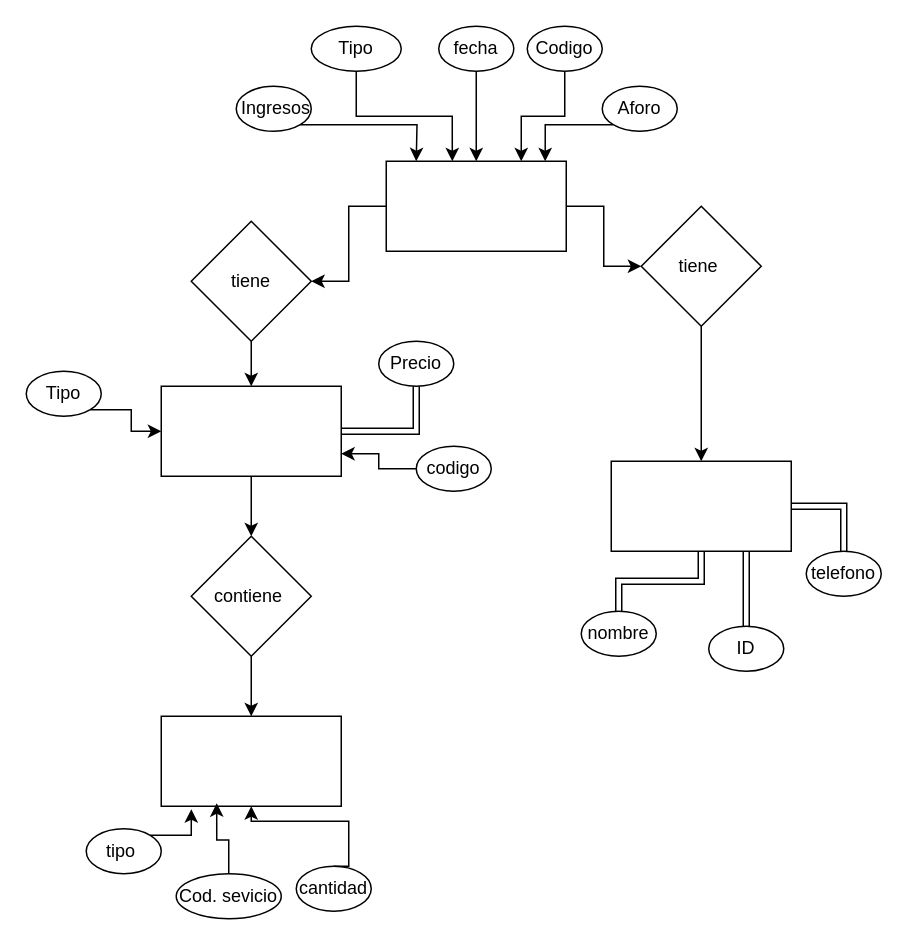
This 908x945 diagram has some shape labels left out. Each missing label, with the centre of its shape:
"Entrada" belongs at (250,430).
"Evento" belongs at (475,205).
"Servicios" belongs at (250,760).
"Usuarios" belongs at (700,505).
